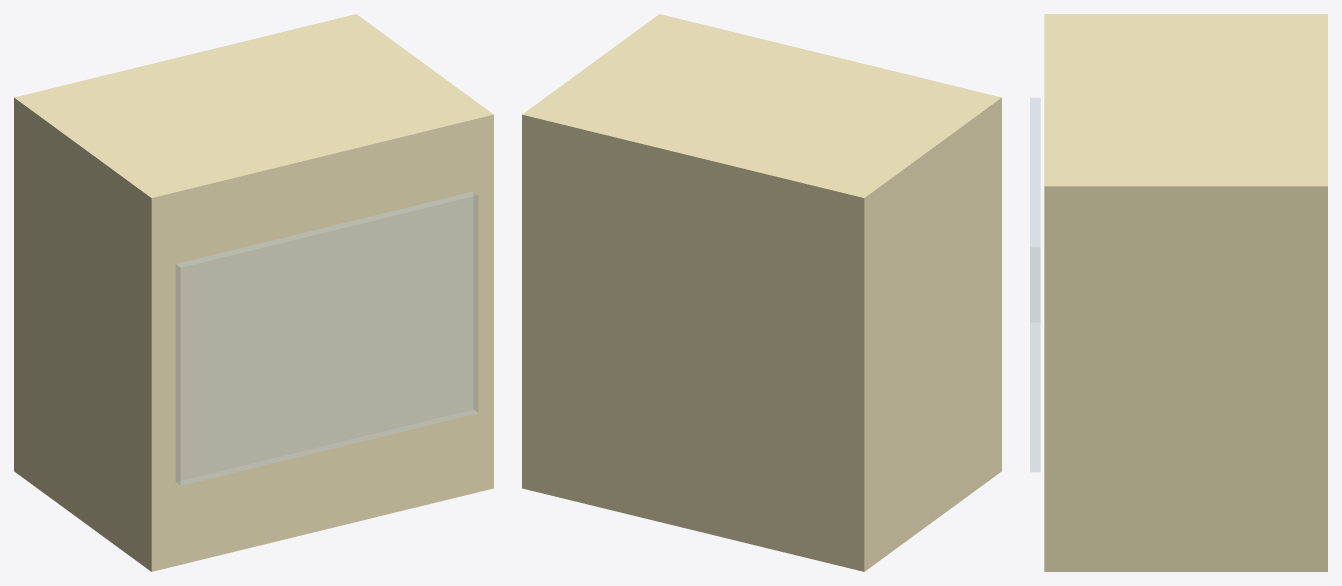
File: clothing.glb
3 renders of one model, left to right at view 1: azimuth 30°, elevation 25°; view 2: azimuth 150°, elevation 25°; view 3: azimuth 270°, elevation 25°, orthographic. The views are drawn at different scales.
Bounding box in the file's own units: 1.73 × 1.8 × 1.26.
